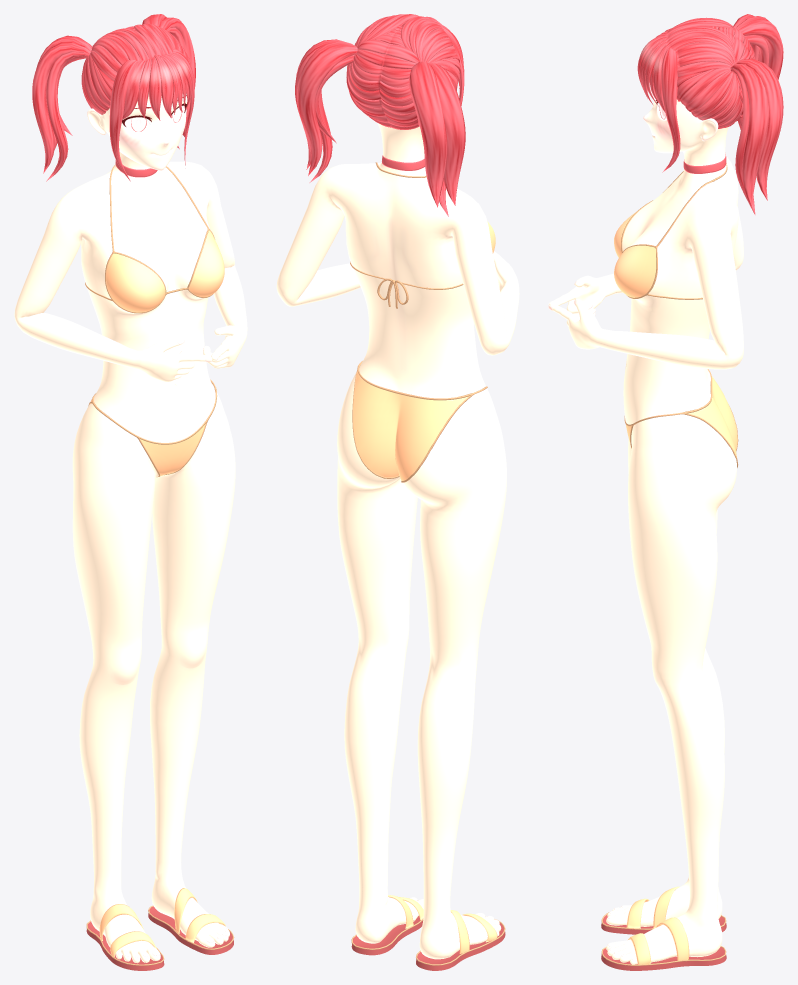
The model's file is agirl.gltf.
The picture shows the model from 3 angles, left to right: view 1: azimuth 30°, elevation 25°; view 2: azimuth 150°, elevation 25°; view 3: azimuth 270°, elevation 25°; orthographic projection. The views are drawn at different scales.
Parts seen in each view (by area): view 1: ags_M; view 2: ags_M; view 3: ags_M.
Boxes of the visible parts, x1,y1,x2,y2 form: ags_M: (14,14,247,970); ags_M: (276,14,519,970); ags_M: (548,14,783,970).
Bounding box in the file's own units: 1.66 × 6.48 × 1.5.
4 materials, 4 textured.
